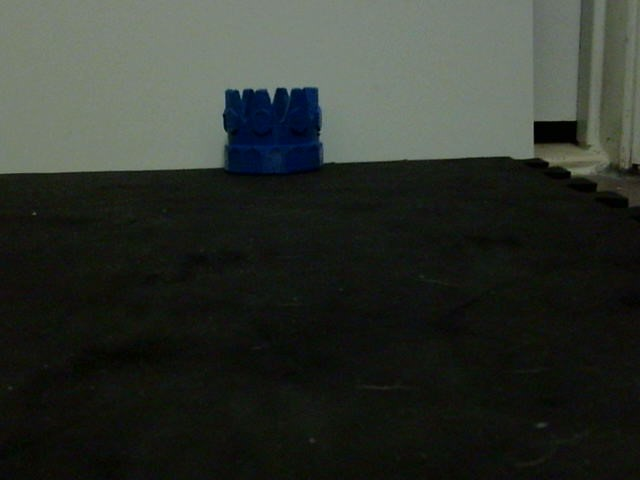crown: (220, 84, 323, 176)
